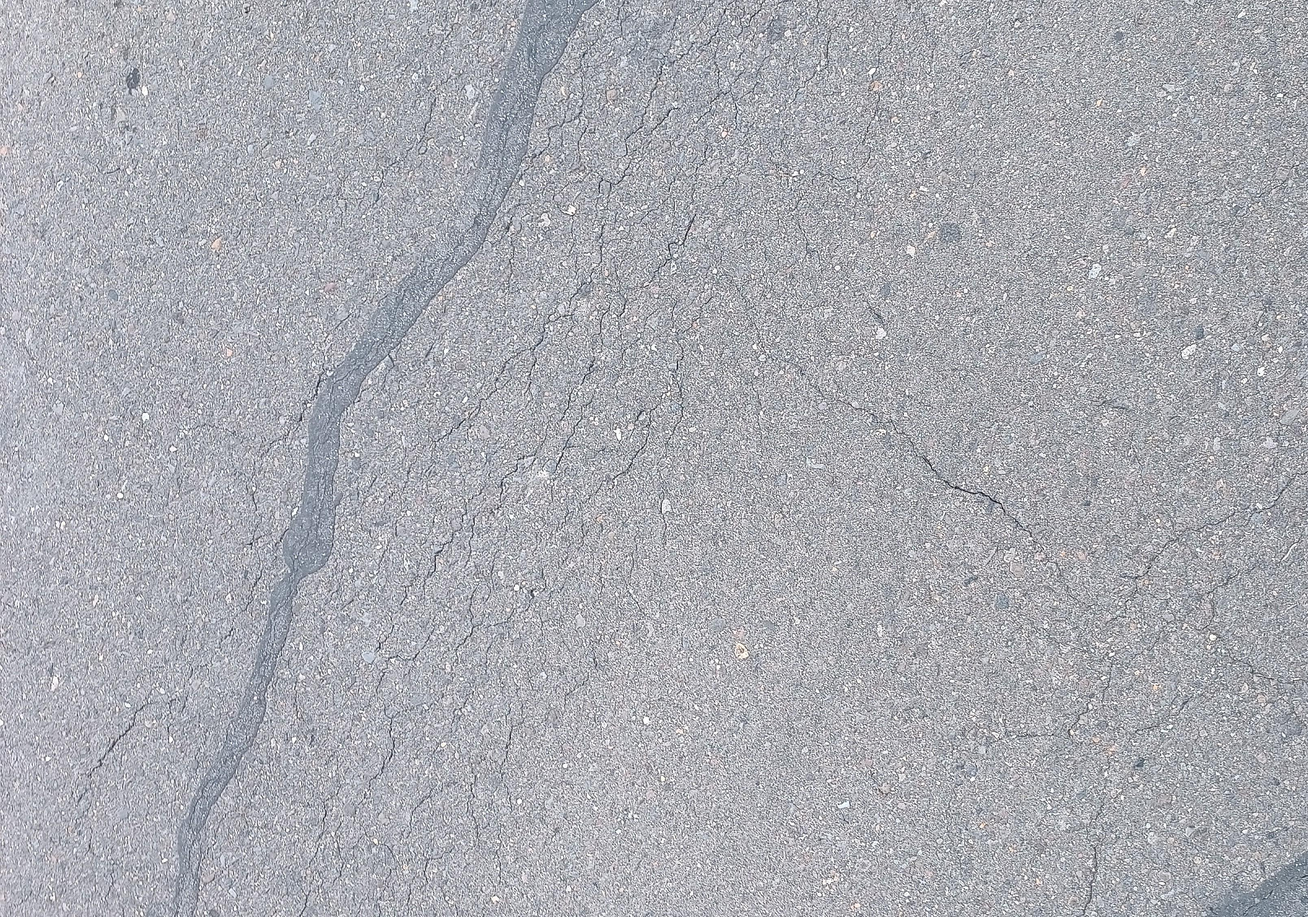GRIETA: (844, 403, 1032, 535), (1082, 847, 1099, 917)
PIEL DE COCODRILO: (58, 0, 908, 917), (965, 459, 1308, 796)
